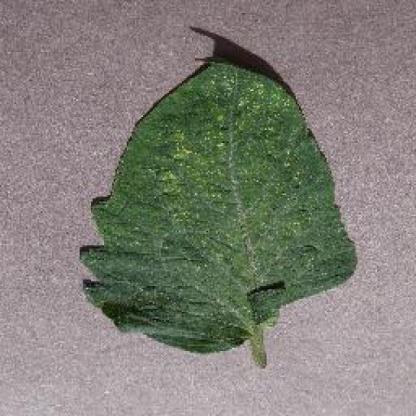Tomato_Spider_Mites: (83, 56, 358, 350)
